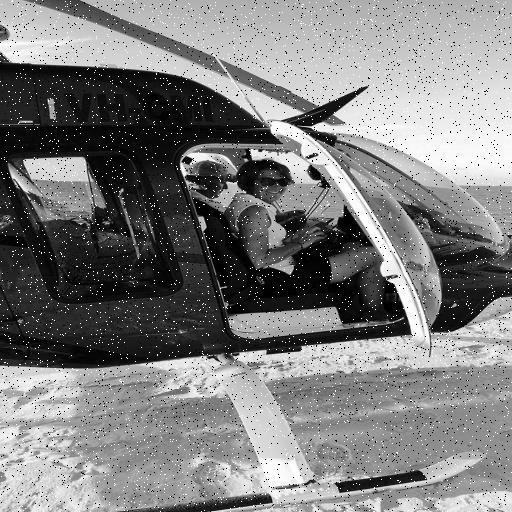helicopter: (1, 27, 505, 500)
